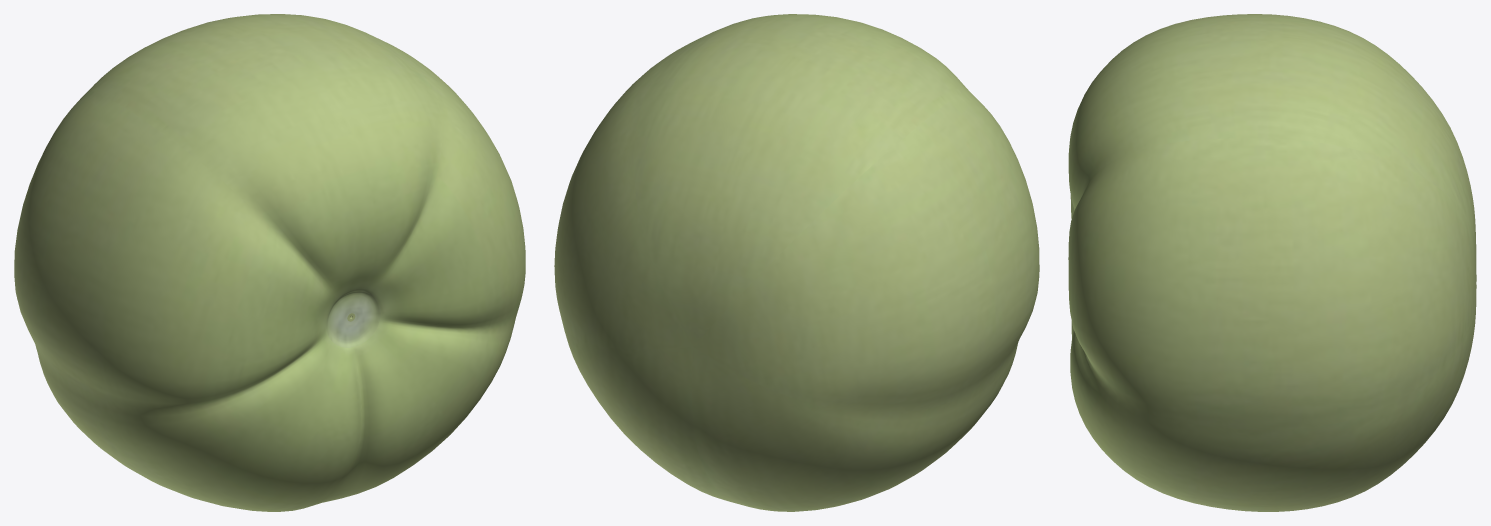
The model's file is GreenTomatoPeel.obj.
3 renders of one model, left to right at view 1: azimuth 30°, elevation 25°; view 2: azimuth 150°, elevation 25°; view 3: azimuth 270°, elevation 25°, orthographic. The views are drawn at different scales.
Visible parts, largest first — view 1: GreenTomatoPeel; view 2: GreenTomatoPeel; view 3: GreenTomatoPeel.
Part boxes in pixels (box(x1,y1,x2,y2)): GreenTomatoPeel: box(14, 14, 525, 511); GreenTomatoPeel: box(554, 14, 1039, 511); GreenTomatoPeel: box(1068, 14, 1476, 511).
Bounding box in the file's own units: 0.0972 × 0.0969 × 0.0798.
Materials: 1 (1 with a texture image).
